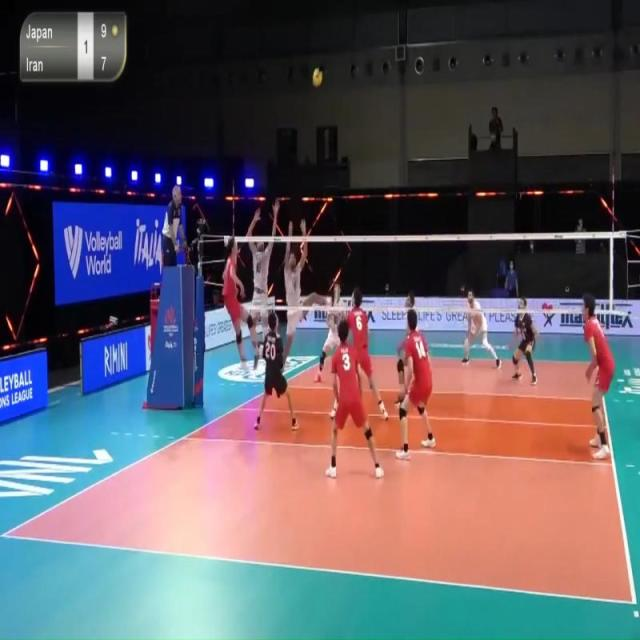volleyball: (312, 68, 322, 86)
